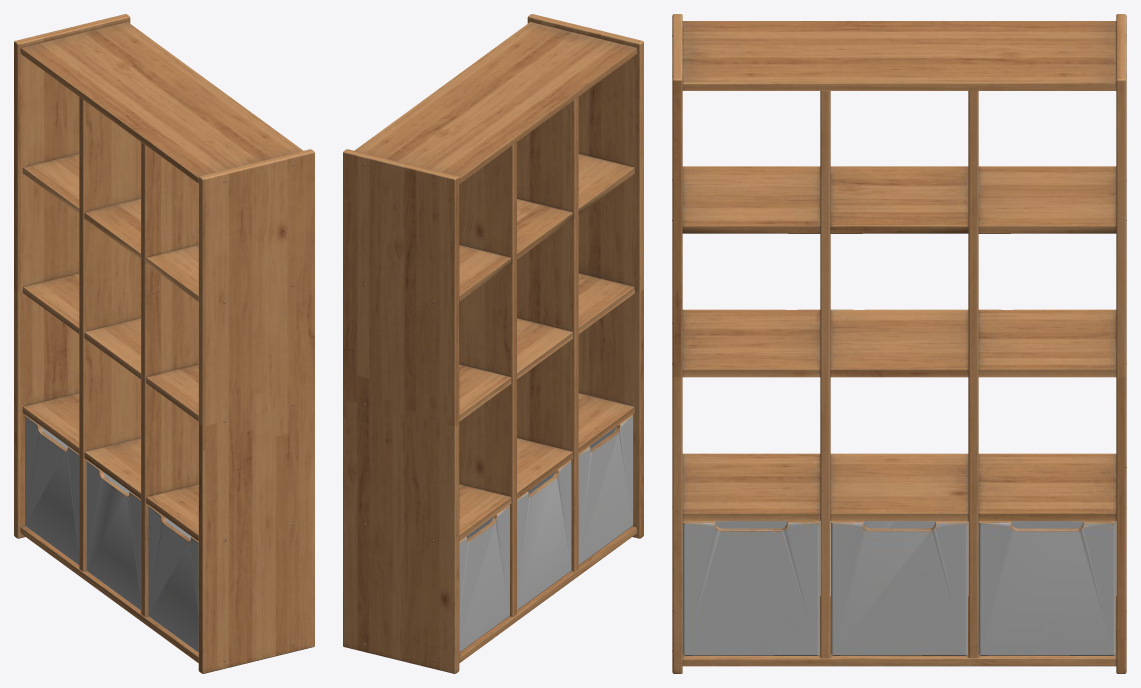
Rendered from newsstand-rack.glb.
3 views of the same model, side by side, from view 1: azimuth 30°, elevation 25°; view 2: azimuth 150°, elevation 25°; view 3: azimuth 270°, elevation 25° (orthographic). The views are drawn at different scales.
Parts seen in each view (by area): view 1: wooden_display_shelves_01, wooden_display_shelves_01_drawer_01, wooden_display_shelves_01_drawer_02, wooden_display_shelves_01_drawer_03; view 2: wooden_display_shelves_01, wooden_display_shelves_01_drawer_03, wooden_display_shelves_01_drawer_02, wooden_display_shelves_01_drawer_01; view 3: wooden_display_shelves_01, wooden_display_shelves_01_drawer_03, wooden_display_shelves_01_drawer_01, wooden_display_shelves_01_drawer_02.
Part boxes in pixels (x1,y1,x2,y2): wooden_display_shelves_01: (14, 14, 314, 673); wooden_display_shelves_01_drawer_01: (25, 415, 79, 565); wooden_display_shelves_01_drawer_02: (86, 460, 140, 610); wooden_display_shelves_01_drawer_03: (148, 505, 198, 652); wooden_display_shelves_01: (343, 14, 643, 673); wooden_display_shelves_01_drawer_03: (578, 415, 633, 565); wooden_display_shelves_01_drawer_02: (517, 460, 571, 610); wooden_display_shelves_01_drawer_01: (459, 505, 509, 652); wooden_display_shelves_01: (672, 14, 1126, 673); wooden_display_shelves_01_drawer_03: (682, 521, 819, 655); wooden_display_shelves_01_drawer_01: (978, 521, 1115, 655); wooden_display_shelves_01_drawer_02: (831, 521, 967, 655).
Size of the model in its own units: 0.3715 by 1.56 by 1.08.
Materials: 1 (1 with a texture image).
